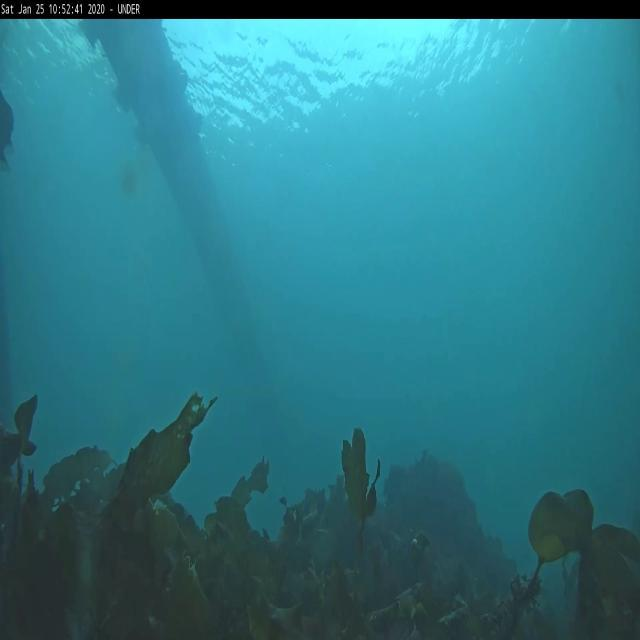fish: (0, 95, 18, 173)
